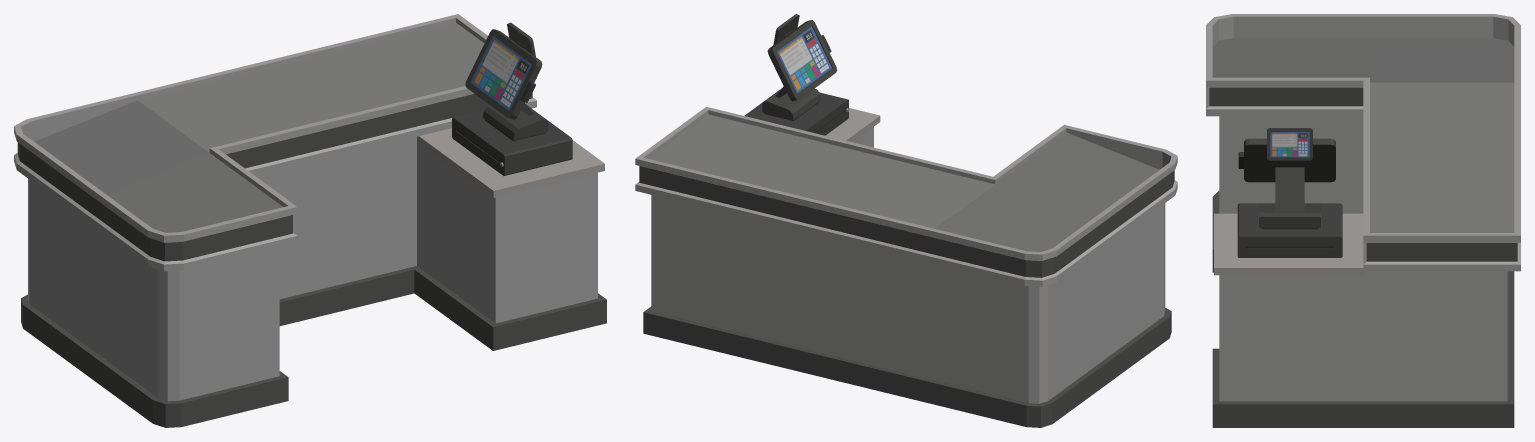
Rendered from SM_Props_Interior_SuperMarket_CheckoutCounter.fbx.
The picture shows the model from 3 angles, left to right: view 1: azimuth 30°, elevation 25°; view 2: azimuth 150°, elevation 25°; view 3: azimuth 270°, elevation 25°; orthographic projection. The views are drawn at different scales.
Visible parts, largest first — view 1: SM_Props_Interior_SuperMarket_CheckoutCounter, SM_Props_Interior_SuperMarket_CheckoutCounter_Register; view 2: SM_Props_Interior_SuperMarket_CheckoutCounter, SM_Props_Interior_SuperMarket_CheckoutCounter_Register; view 3: SM_Props_Interior_SuperMarket_CheckoutCounter, SM_Props_Interior_SuperMarket_CheckoutCounter_Register.
Boxes of the visible parts, x1,y1,x2,y2 form: SM_Props_Interior_SuperMarket_CheckoutCounter: (14,14,606,427); SM_Props_Interior_SuperMarket_CheckoutCounter_Register: (452,22,572,175); SM_Props_Interior_SuperMarket_CheckoutCounter: (635,106,1177,427); SM_Props_Interior_SuperMarket_CheckoutCounter_Register: (744,14,849,135); SM_Props_Interior_SuperMarket_CheckoutCounter: (1206,14,1520,427); SM_Props_Interior_SuperMarket_CheckoutCounter_Register: (1237,128,1342,257).
Size of the model in its own units: 200 by 116 by 120.
